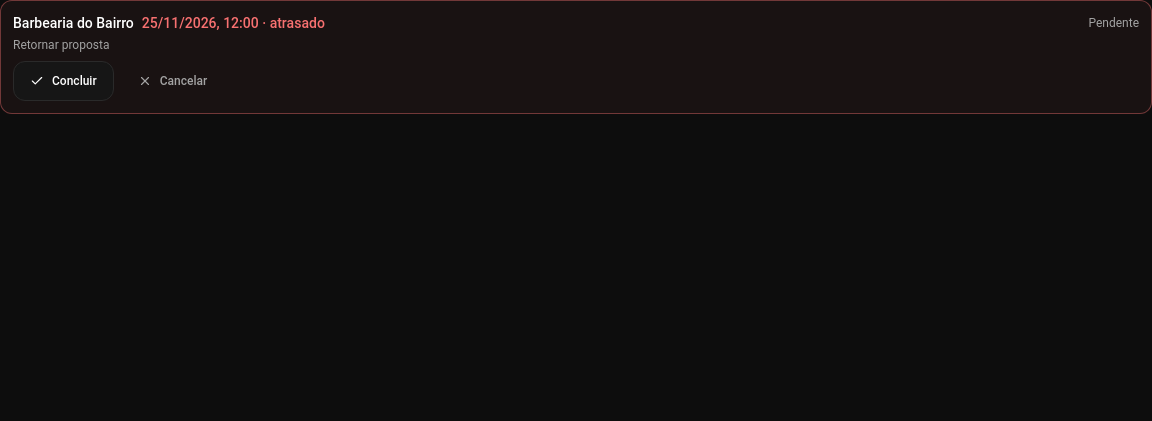
it: FollowupItem conclusão › não grava quando a recarga de validação falha e diz por quê
This screenshot has width=1152, height=421.
Click the button with aria-label "Concluir follow-up": (63, 81) [13,61,114,101]
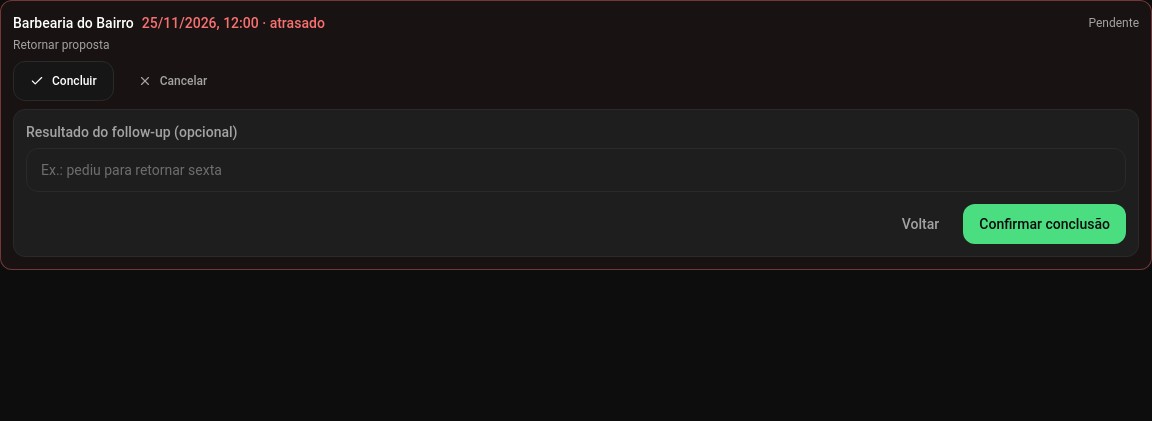
Click the button "Confirmar conclusão": (1045, 224) [963,204,1126,244]
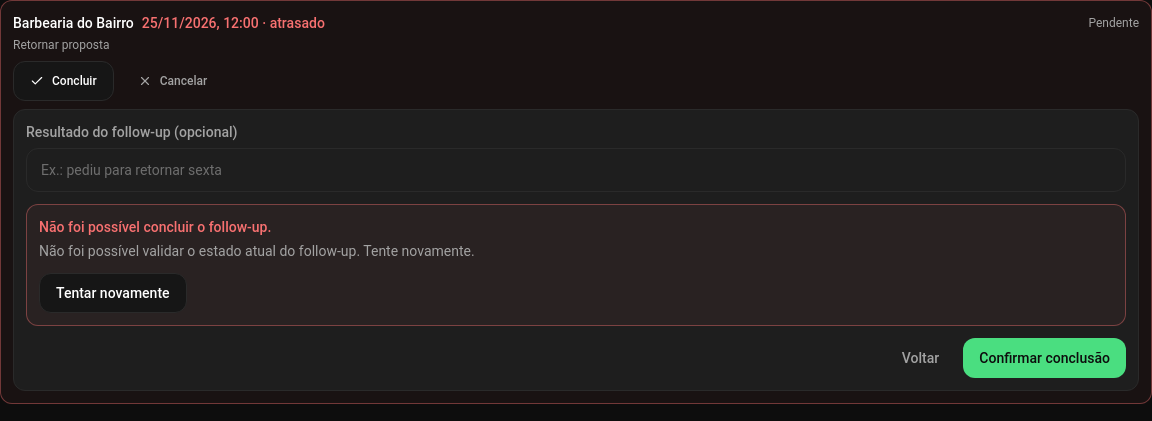
Check: the message shows "Não foi possível validar o estado atual do follow-up.", box [39,243,475,259]
